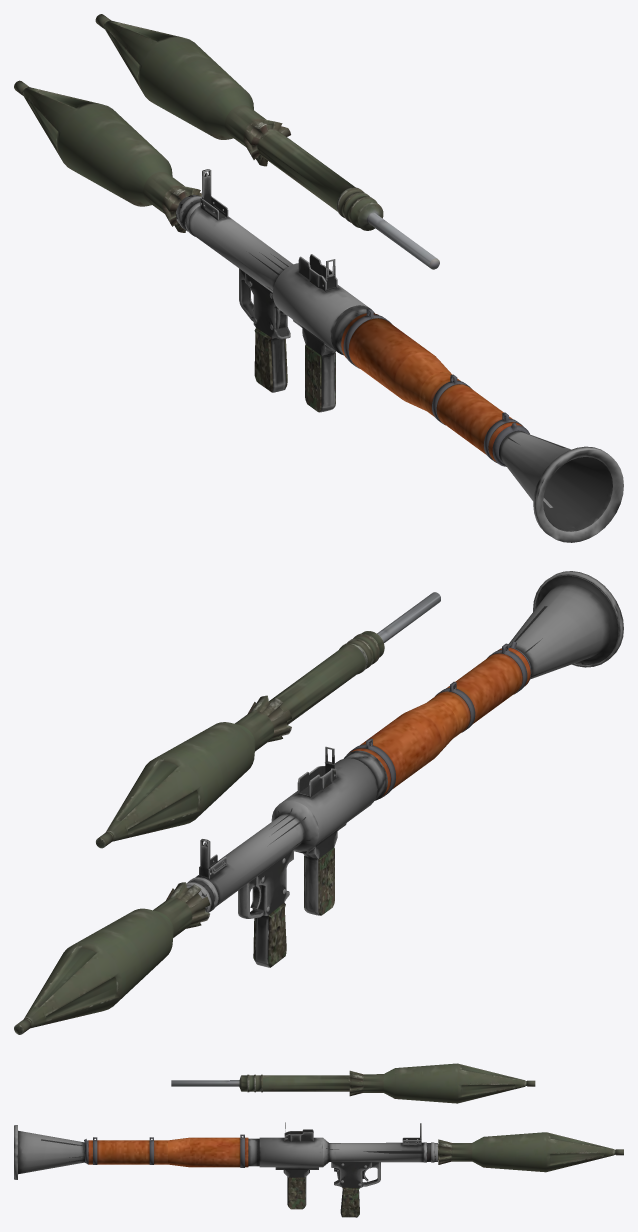
File: gun_bazooka.glb
3 views of the same model, one above another, from view 1: azimuth 30°, elevation 25°; view 2: azimuth 150°, elevation 25°; view 3: azimuth 270°, elevation 25° (orthographic). The views are drawn at different scales.
Visible parts, largest first — view 1: Object_13, Object_4, Object_5, Object_7, Object_11, Object_17, Object_15; view 2: Object_13, Object_4, Object_5, Object_7, Object_11, Object_17, Object_15; view 3: Object_13, Object_4, Object_5, Object_7, Object_11, Object_17, Object_15.
Part boxes in pixels (<box>): Object_13: <box>14,14,439,287</box>; Object_4: <box>176,194,623,542</box>; Object_5: <box>341,313,522,462</box>; Object_7: <box>239,268,335,412</box>; Object_11: <box>254,328,335,412</box>; Object_17: <box>200,169,337,291</box>; Object_15: <box>343,308,529,466</box>; Object_13: <box>14,592,440,1034</box>; Object_4: <box>186,571,623,912</box>; Object_5: <box>350,648,530,796</box>; Object_7: <box>238,823,346,967</box>; Object_11: <box>253,847,334,967</box>; Object_17: <box>199,746,336,878</box>; Object_15: <box>347,641,531,798</box>; Object_13: <box>171,1063,623,1172</box>; Object_4: <box>14,1125,437,1179</box>; Object_5: <box>88,1137,248,1167</box>; Object_7: <box>275,1162,380,1216</box>; Object_11: <box>288,1177,359,1217</box>; Object_17: <box>284,1122,421,1145</box>; Object_15: <box>84,1134,244,1167</box>.
Size of the model in its own units: 0.7269 by 2.19 by 8.08.
Materials: 9 (9 with a texture image).
